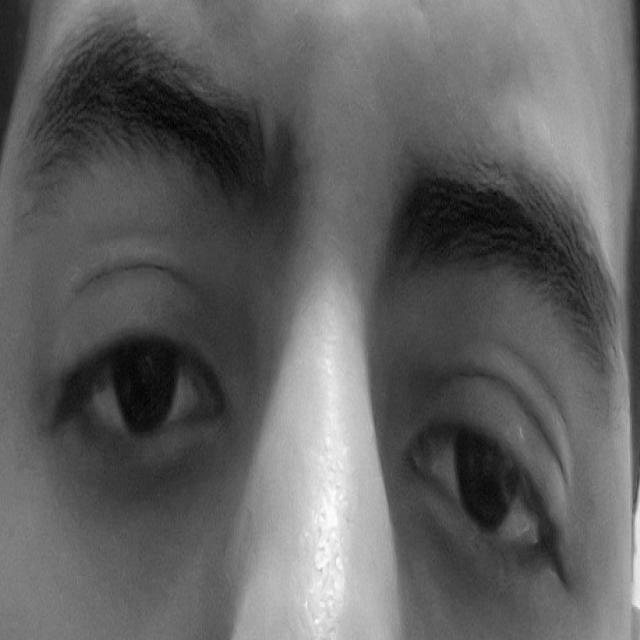real: (36, 162, 608, 634)
